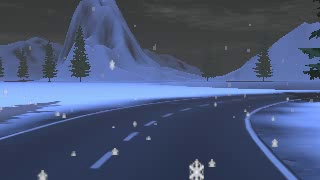Lane: (0, 92, 319, 179)
